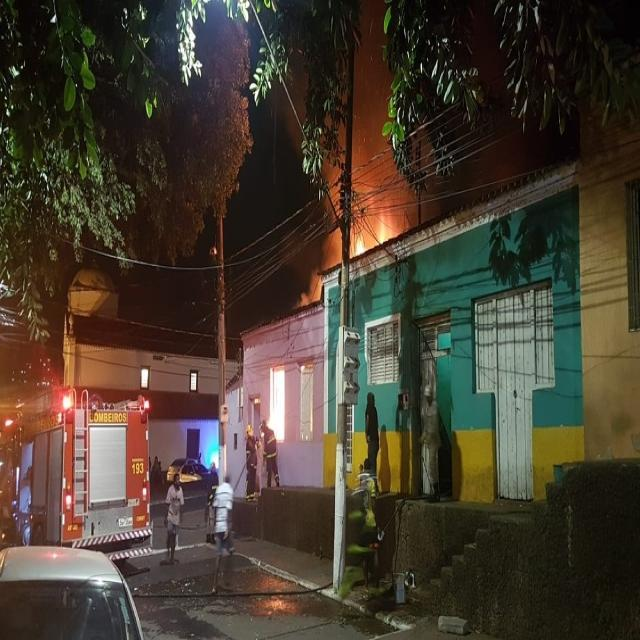Fire: (314, 210, 421, 254), (270, 368, 296, 448)
Smoke: (262, 12, 509, 195)
